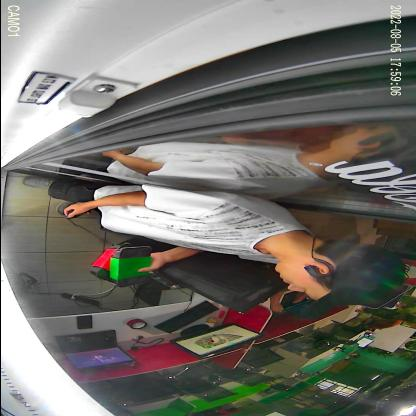green: (108, 246, 152, 288)
red: (88, 242, 131, 284)
